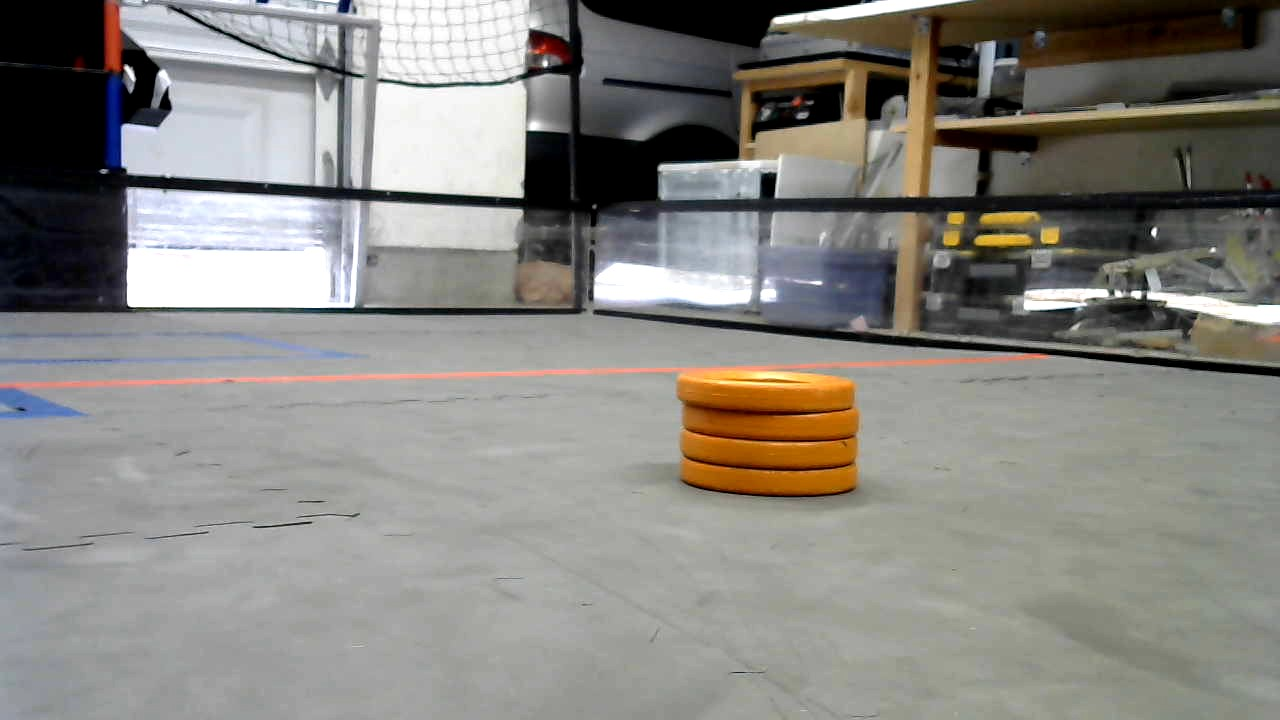FourStack: (676, 372, 861, 502)
